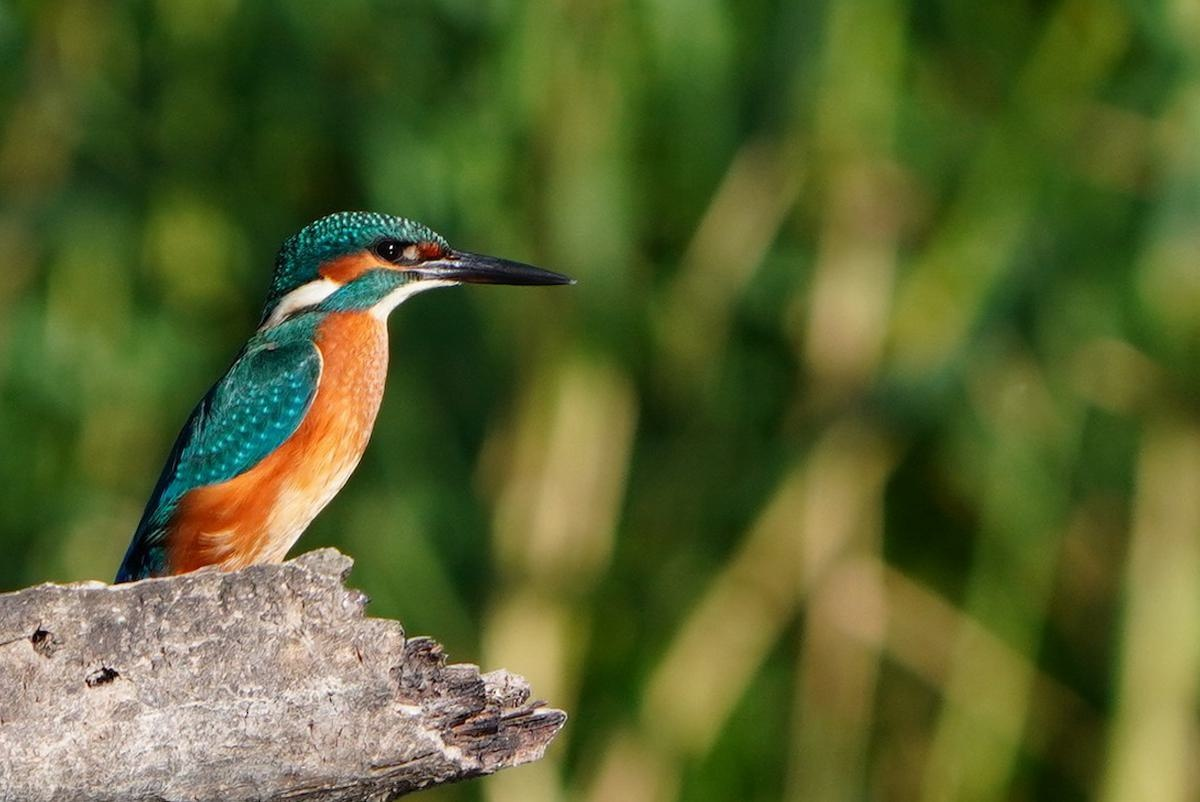kingfisher: (123, 207, 604, 564)
